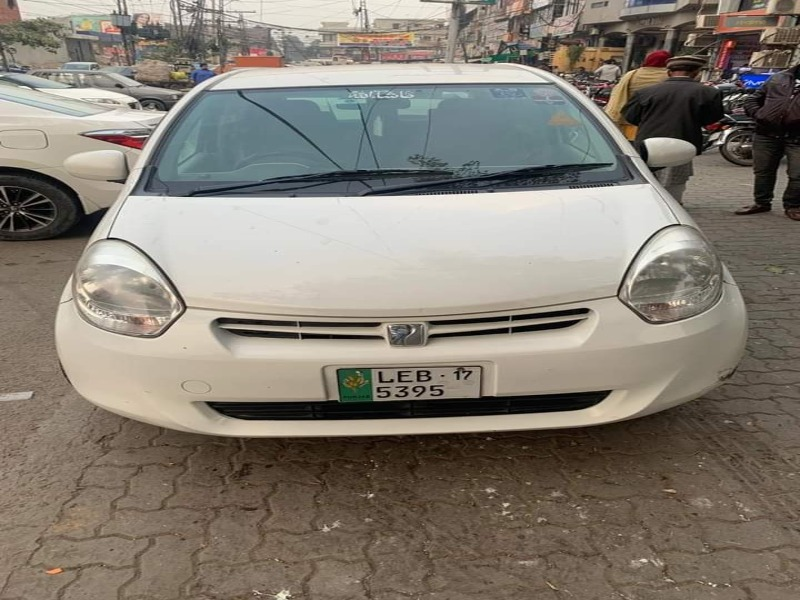License Plate: (333, 360, 489, 406)
